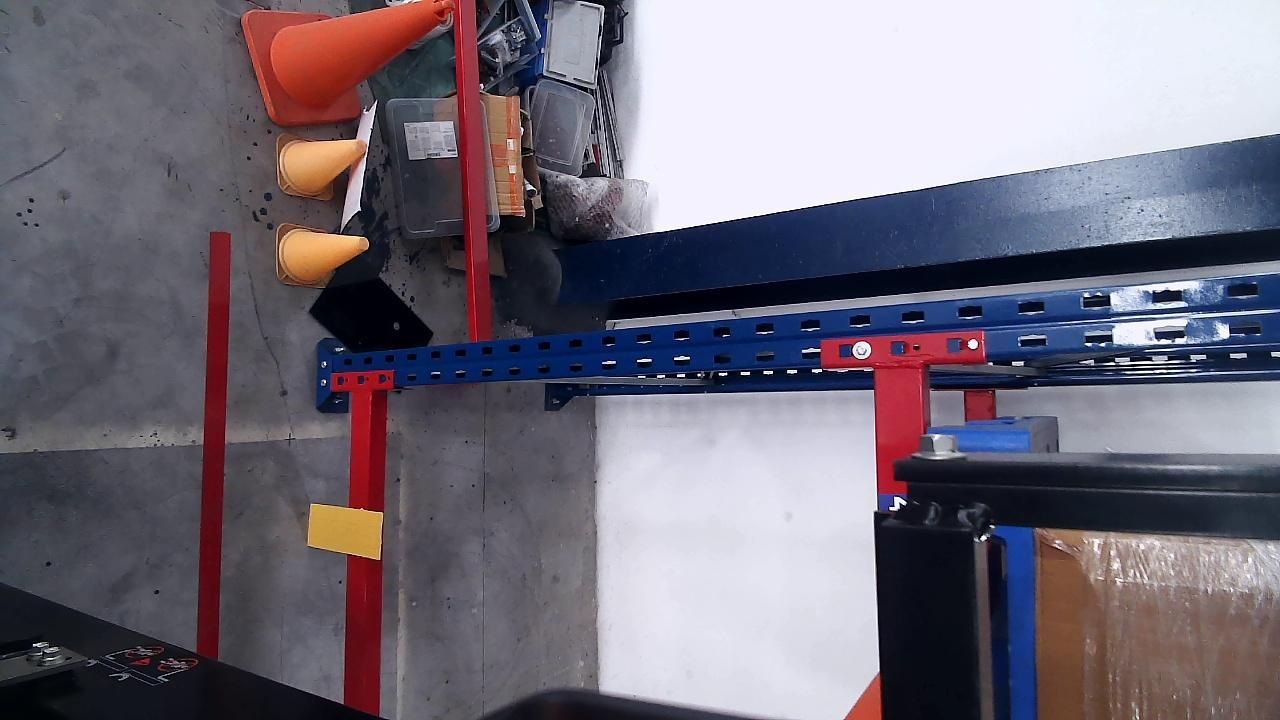h_rack: (346, 386, 373, 712)
orange_strip: (309, 503, 382, 559)
red_line: (199, 233, 231, 661)
